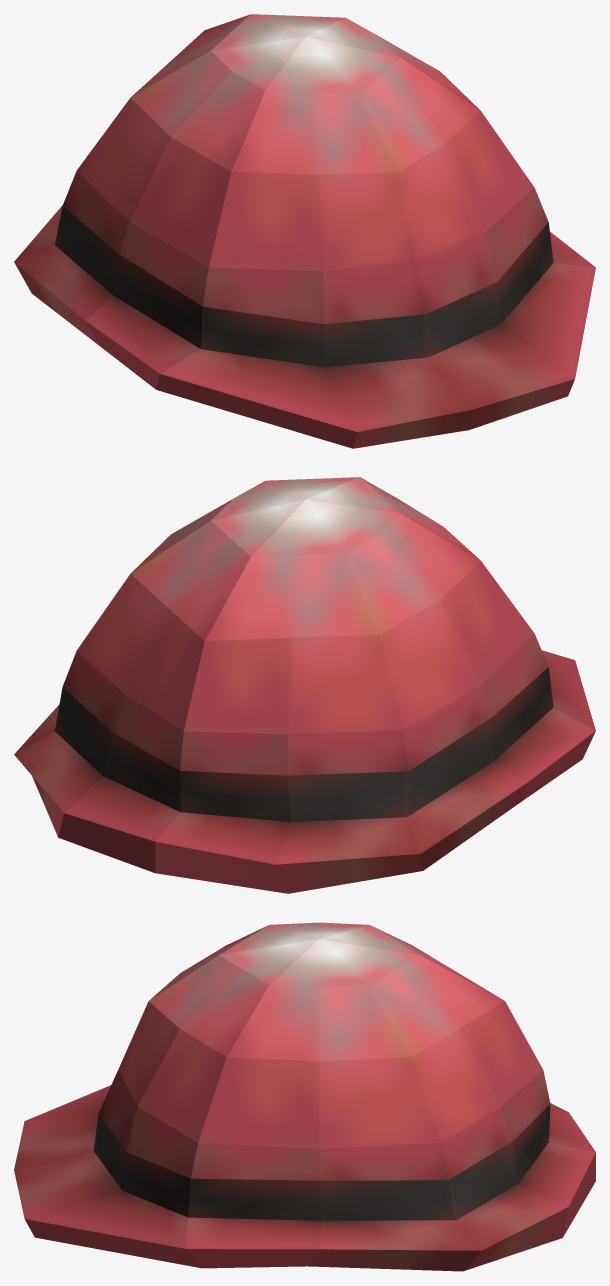
File: Poly_SF_Outside_B_Helment_01.obj
3 renders of one model, top to bottom at view 1: azimuth 30°, elevation 25°; view 2: azimuth 150°, elevation 25°; view 3: azimuth 270°, elevation 25°, orthographic. The views are drawn at different scales.
Parts seen in each view (by area): view 1: Cube.002; view 2: Cube.002; view 3: Cube.002.
Boxes of the visible parts, box(x1,y1,x2,y2) form: Cube.002: box(14, 14, 595, 448); Cube.002: box(14, 477, 595, 893); Cube.002: box(14, 922, 595, 1271).
Size of the model in its own units: 0.5744 by 0.3404 by 0.7142.
Materials: 1 (1 with a texture image).
